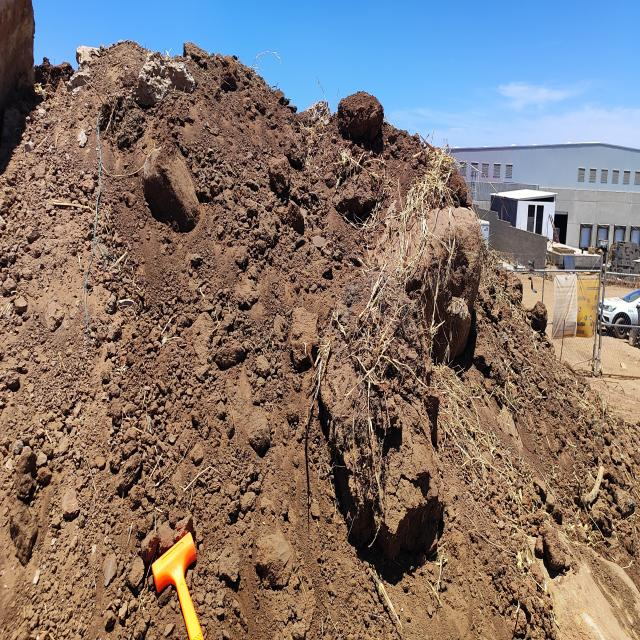Orange_hammer: (150, 530, 204, 639)
